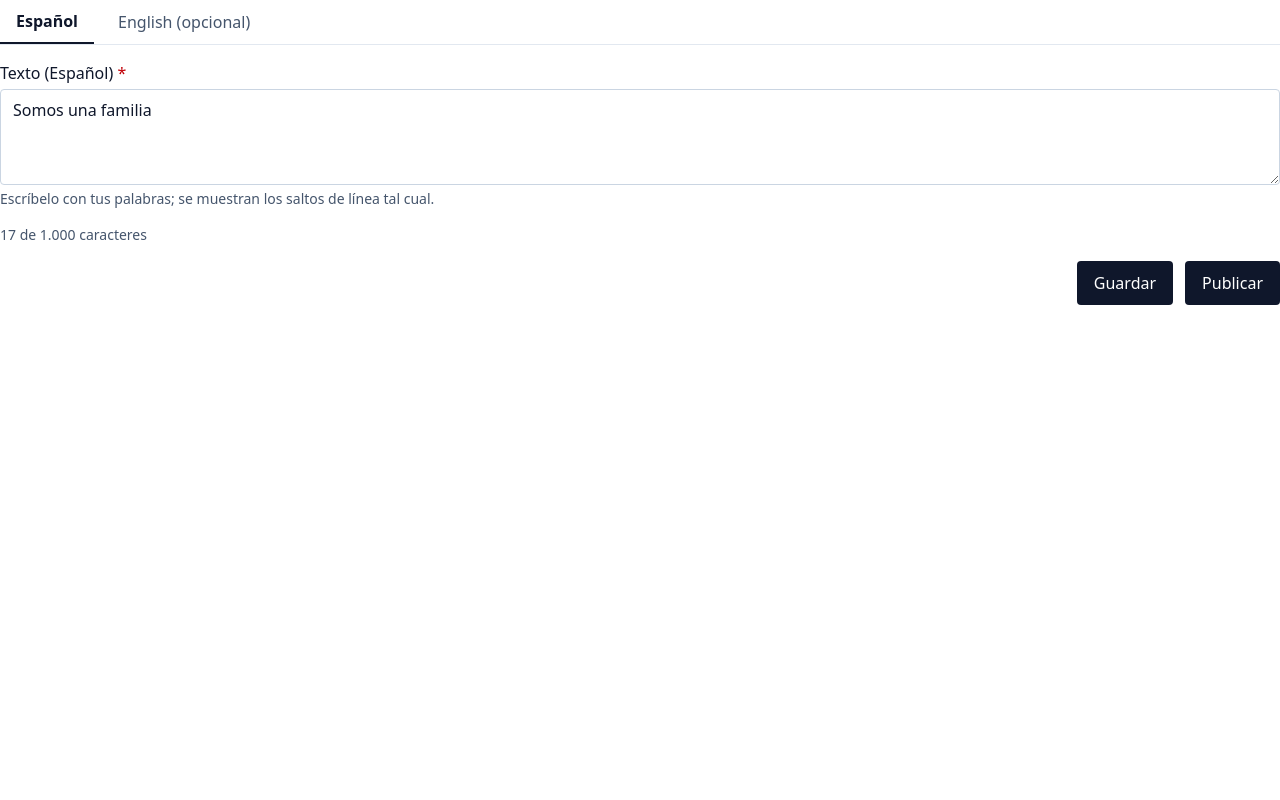
WhoWeAreForm · «quiénes somos» (FR-003) › publica y retira la sección por separado (FR-013)
Click the button "Publicar" at (1233, 283), box [1185, 261, 1279, 305]
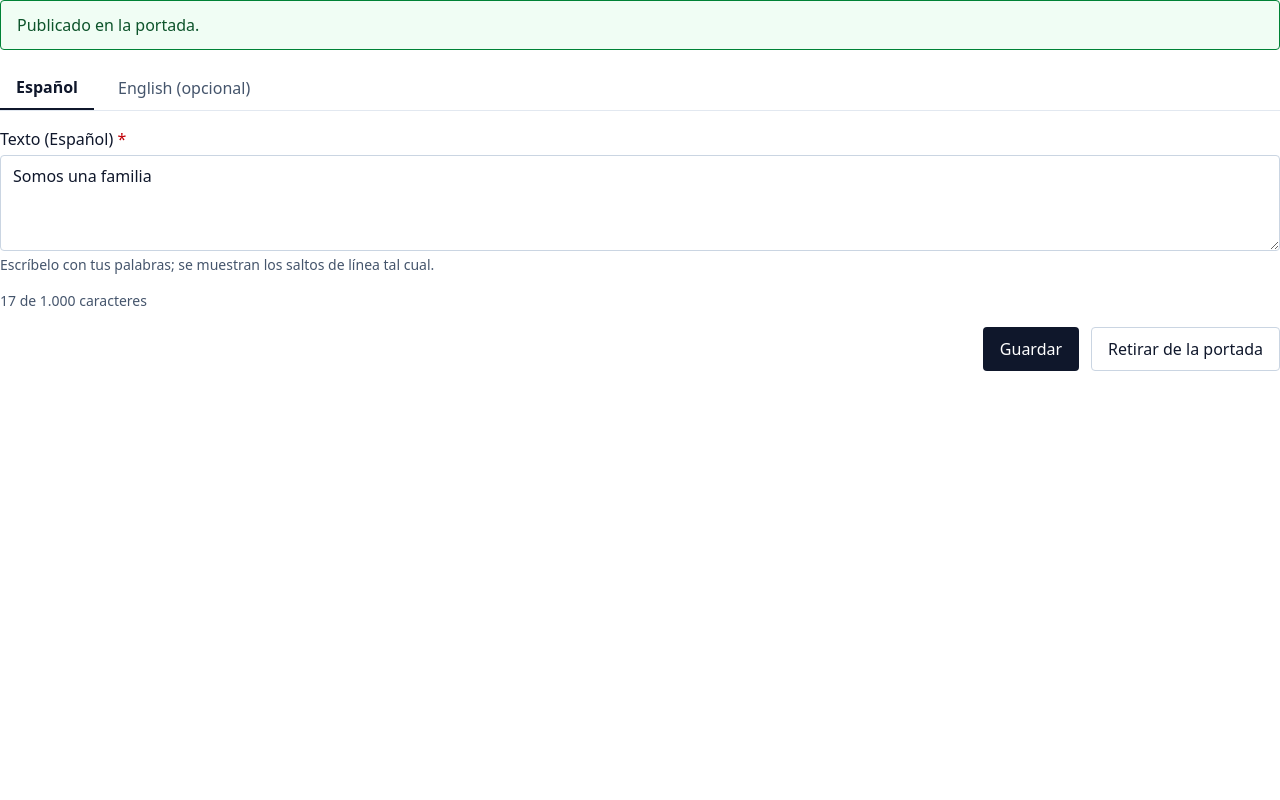
Expected: the text "Publicado en la portada." is shown, [0, 0, 1279, 50]
Click the button "Retirar de la portada" at (1186, 349), box [1091, 327, 1279, 371]
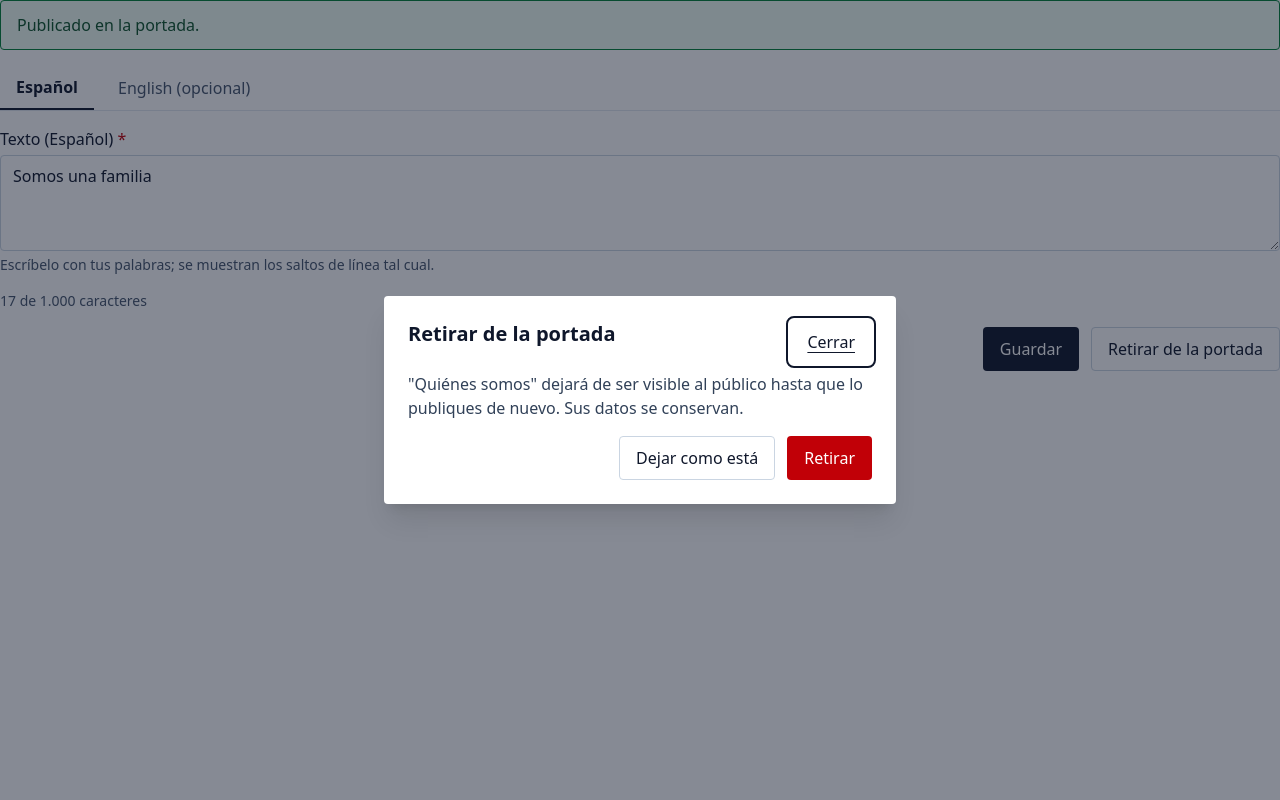
Click the button "Retirar" at (830, 458), box [787, 436, 872, 480]
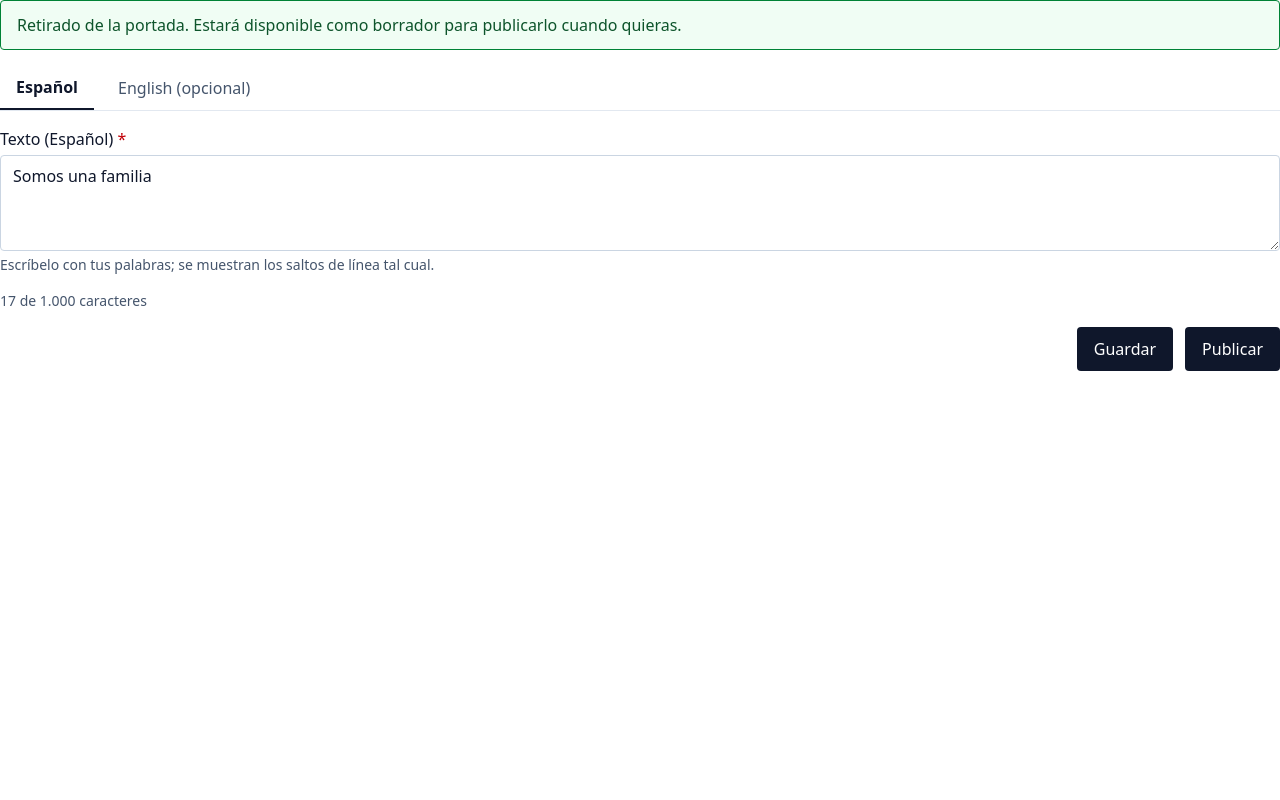
Expected: the text "Retirado de la portada. Estará disponible como borrador para publicarlo cuando quieras." is shown, [17, 14, 682, 36]
